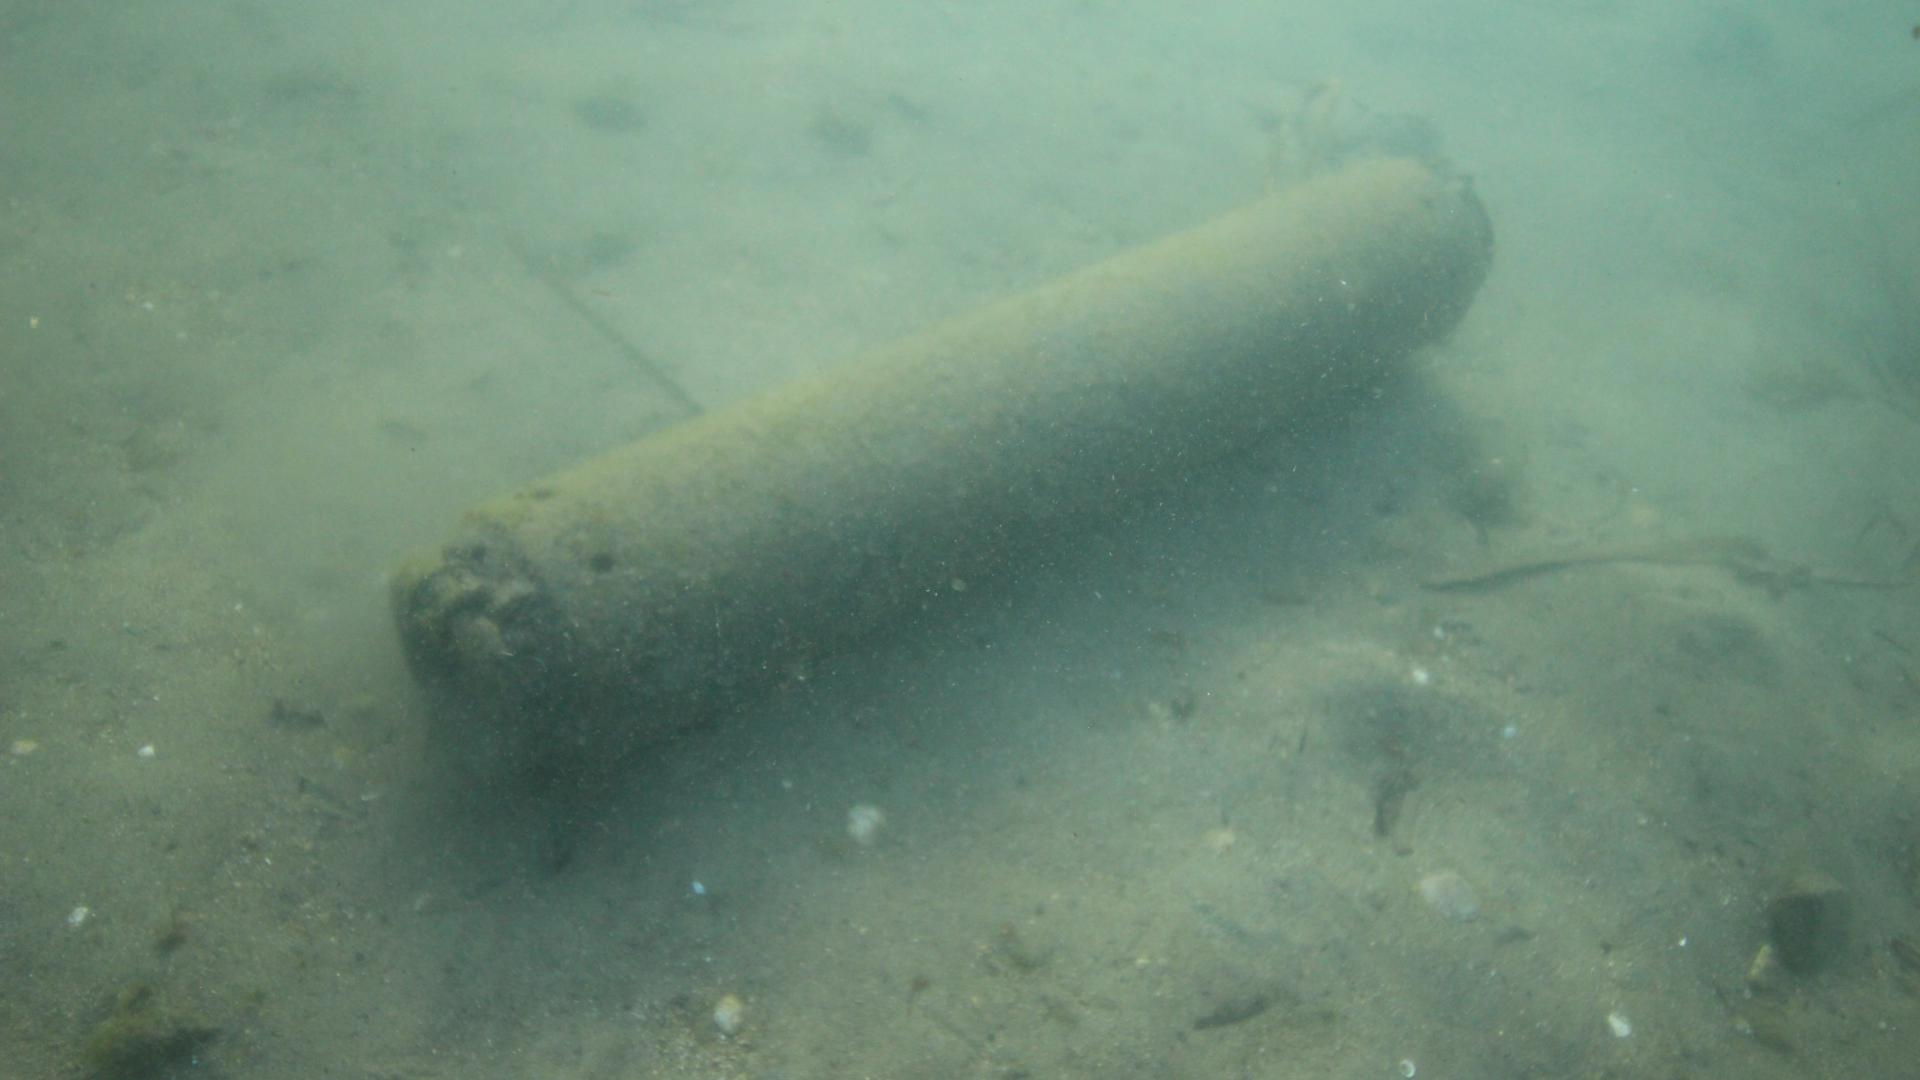eel fish trap: (386, 152, 1491, 785)
